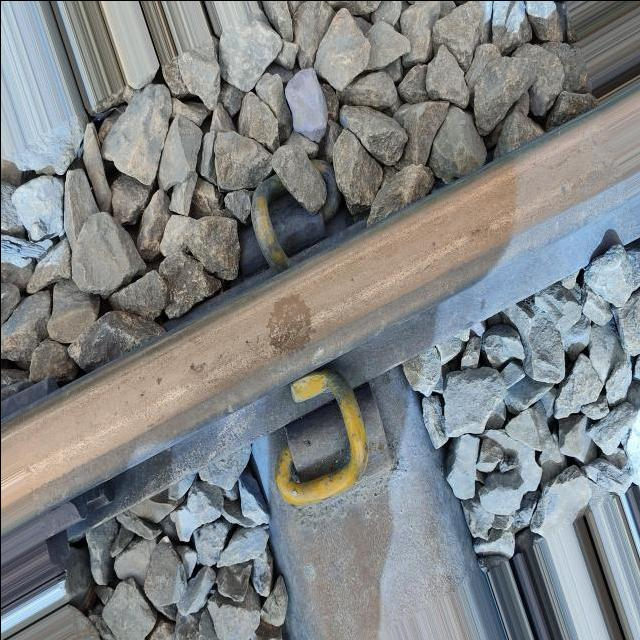broken_rail_medium: (188, 358, 207, 378), (139, 387, 145, 397), (155, 375, 161, 383)
head_checks_high: (266, 290, 318, 360)
